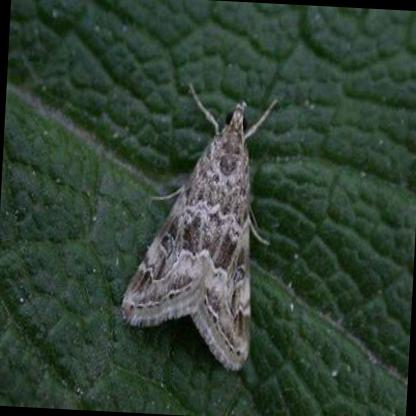Hellula undalis: (116, 76, 281, 375)
